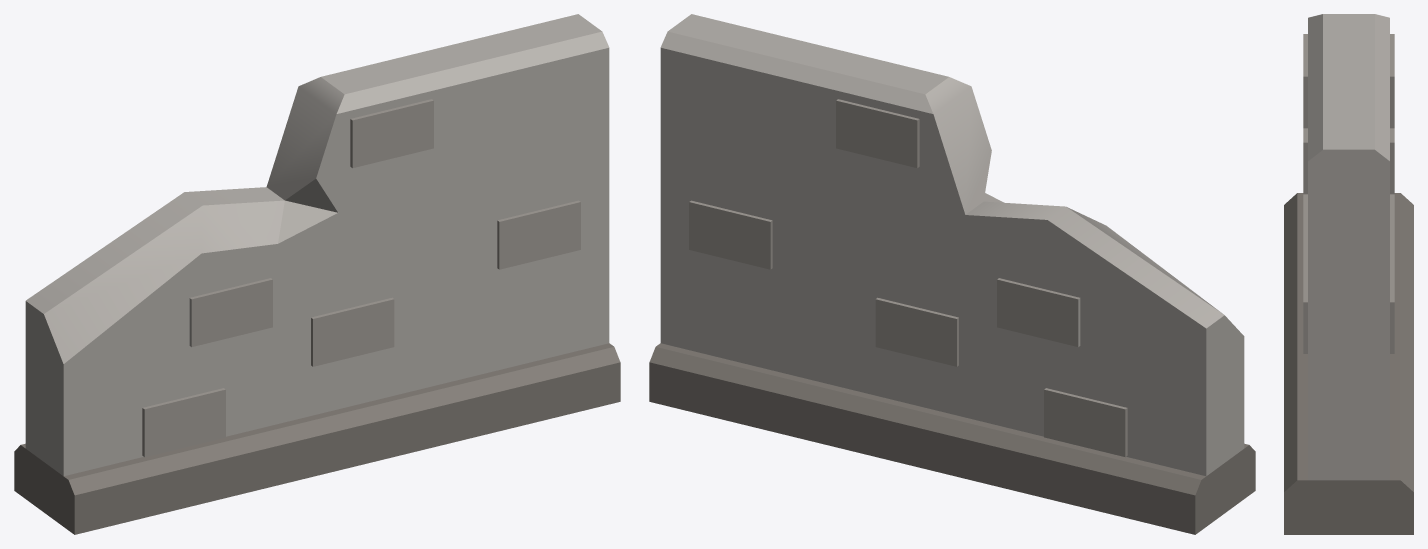
File: Wall 02.FBX
3 views of the same model, side by side, from view 1: azimuth 30°, elevation 25°; view 2: azimuth 150°, elevation 25°; view 3: azimuth 270°, elevation 25° (orthographic). The views are drawn at different scales.
Visible parts, largest first — view 1: Wall 02; view 2: Wall 02; view 3: Wall 02.
Boxes of the visible parts, bbox=[...] form: Wall 02: bbox=[14, 14, 620, 534]; Wall 02: bbox=[649, 14, 1255, 534]; Wall 02: bbox=[1284, 14, 1413, 534].
Bounding box in the file's own units: 400 × 250 × 76.34.
1 material, 1 textured.
